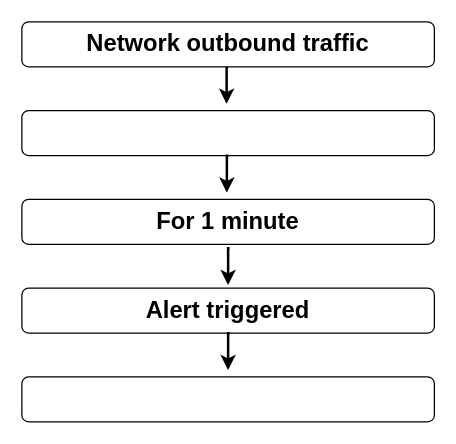
This 456x444 diagram has some shape labels left out. The shapes that lost their labels are listed below. From the top down, each one's box as (x1, y1, x2, y2) in pixels, then its label:
(21, 109, 434, 156): Above threshold
(21, 376, 434, 422): Email / SMS / other notification
